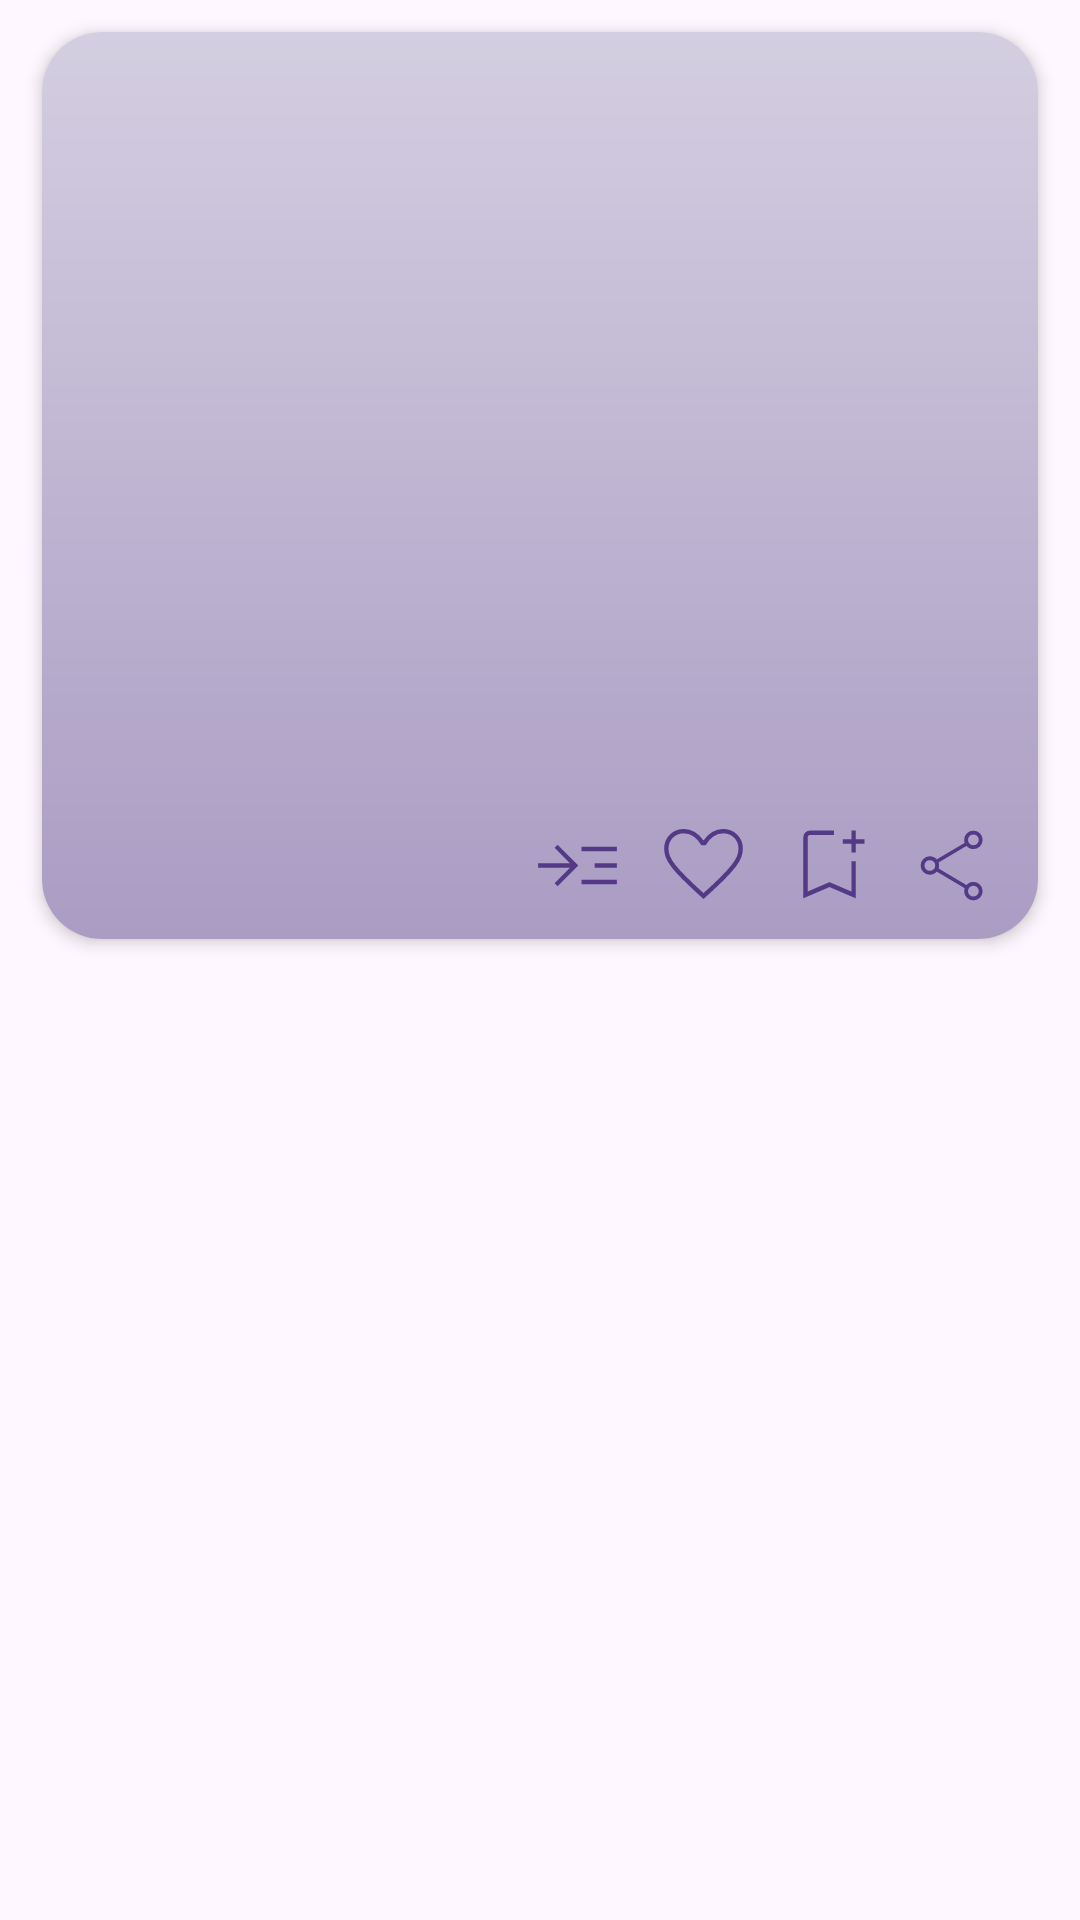

Icons on this 1080px×1920px Android screen, each with the point to tap as (x,y):
bookmark add: (834,864)
like: (703,864)
read more: (577,865)
share: (952,866)
